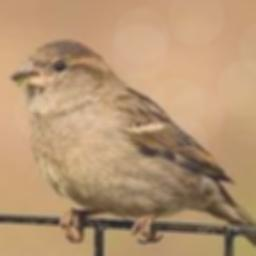Sparrow: (10, 41, 256, 256)
